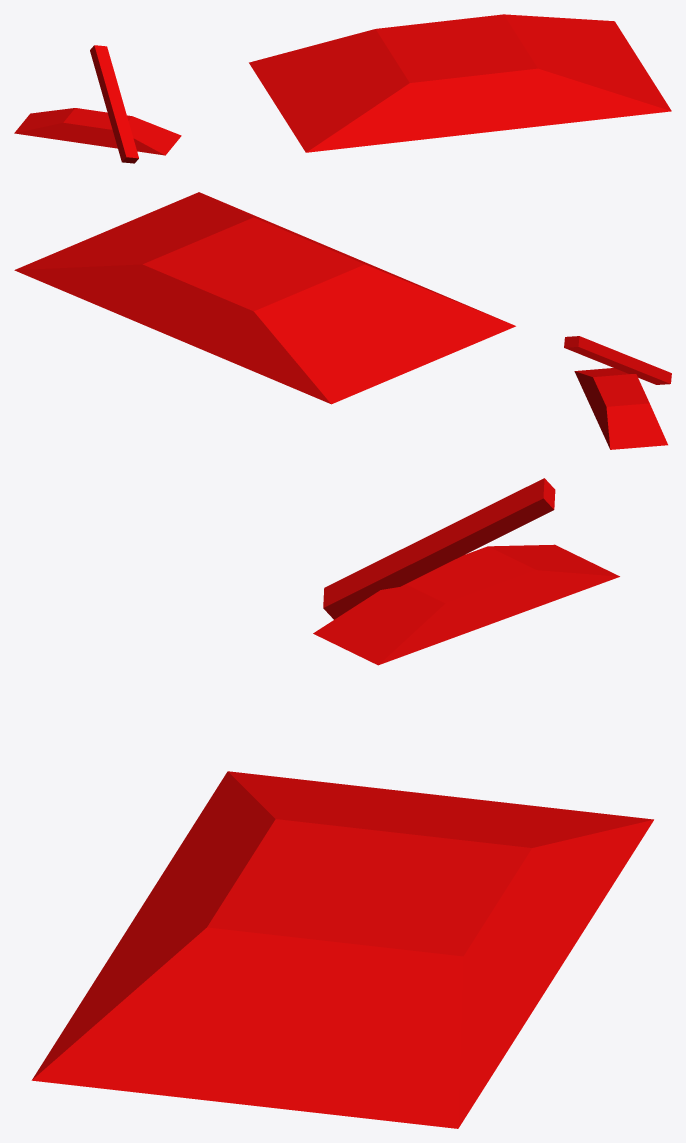
The model's file is SM_Prop_Gaspump_Cover_Burnt_Rubble_01_Collision.fbx.
The picture shows the model from 3 angles, top to bottom: view 1: azimuth 30°, elevation 25°; view 2: azimuth 150°, elevation 25°; view 3: azimuth 270°, elevation 25°; orthographic projection. The views are drawn at different scales.
Parts seen in each view (by area): view 1: SM_Prop_Gaspump_Cover_Burnt_Rubble_01_Collision; view 2: SM_Prop_Gaspump_Cover_Burnt_Rubble_01_Collision; view 3: SM_Prop_Gaspump_Cover_Burnt_Rubble_01_Collision.
Boxes of the visible parts, left/top/right/bottom form: SM_Prop_Gaspump_Cover_Burnt_Rubble_01_Collision: left=14, top=14, right=671, bottom=163; SM_Prop_Gaspump_Cover_Burnt_Rubble_01_Collision: left=14, top=192, right=671, bottom=449; SM_Prop_Gaspump_Cover_Burnt_Rubble_01_Collision: left=31, top=478, right=653, bottom=1128.
Bounding box in the file's own units: 1334 × 181 × 624.
